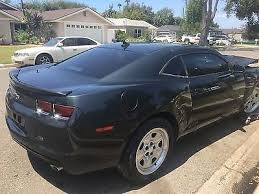Dent: (169, 87, 194, 136)
